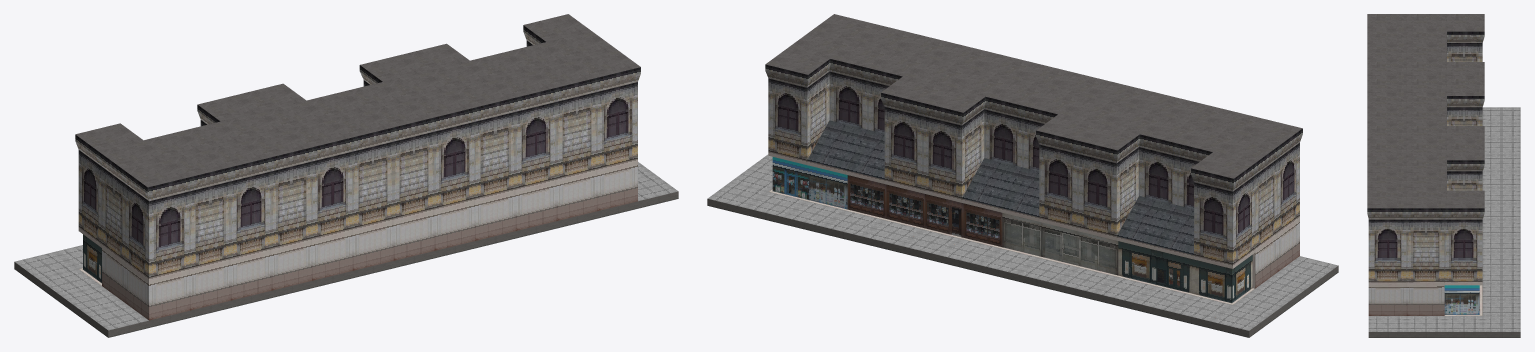
File: building_10_smooth.glb
3 renders of one model, left to right at view 1: azimuth 30°, elevation 25°; view 2: azimuth 150°, elevation 25°; view 3: azimuth 270°, elevation 25°, orthographic. The views are drawn at different scales.
Parts seen in each view (by area): view 1: building_10_smooth2; view 2: building_10_smooth2; view 3: building_10_smooth2.
Part boxes in pixels (box(x1,y1,x2,y2)): building_10_smooth2: box(14, 14, 678, 337); building_10_smooth2: box(707, 14, 1338, 337); building_10_smooth2: box(1367, 14, 1520, 337).
Size of the model in its own units: 70 by 16.63 by 20.19.
Materials: 1 (1 with a texture image).
